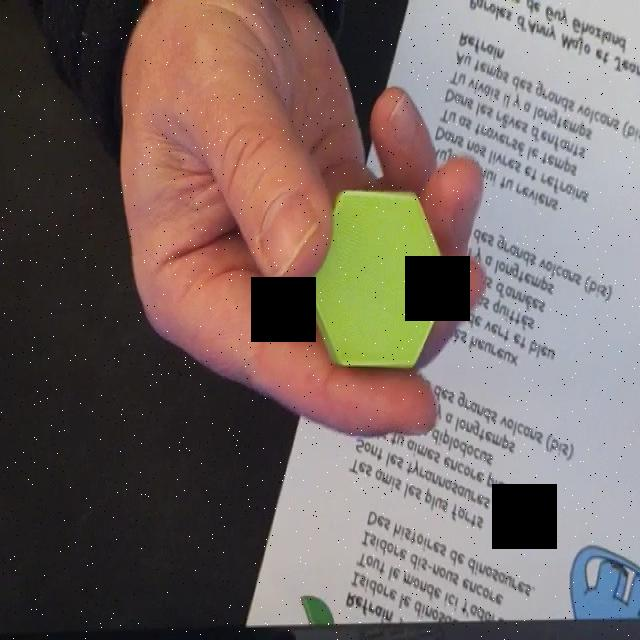hexagon: (301, 184, 453, 370)
